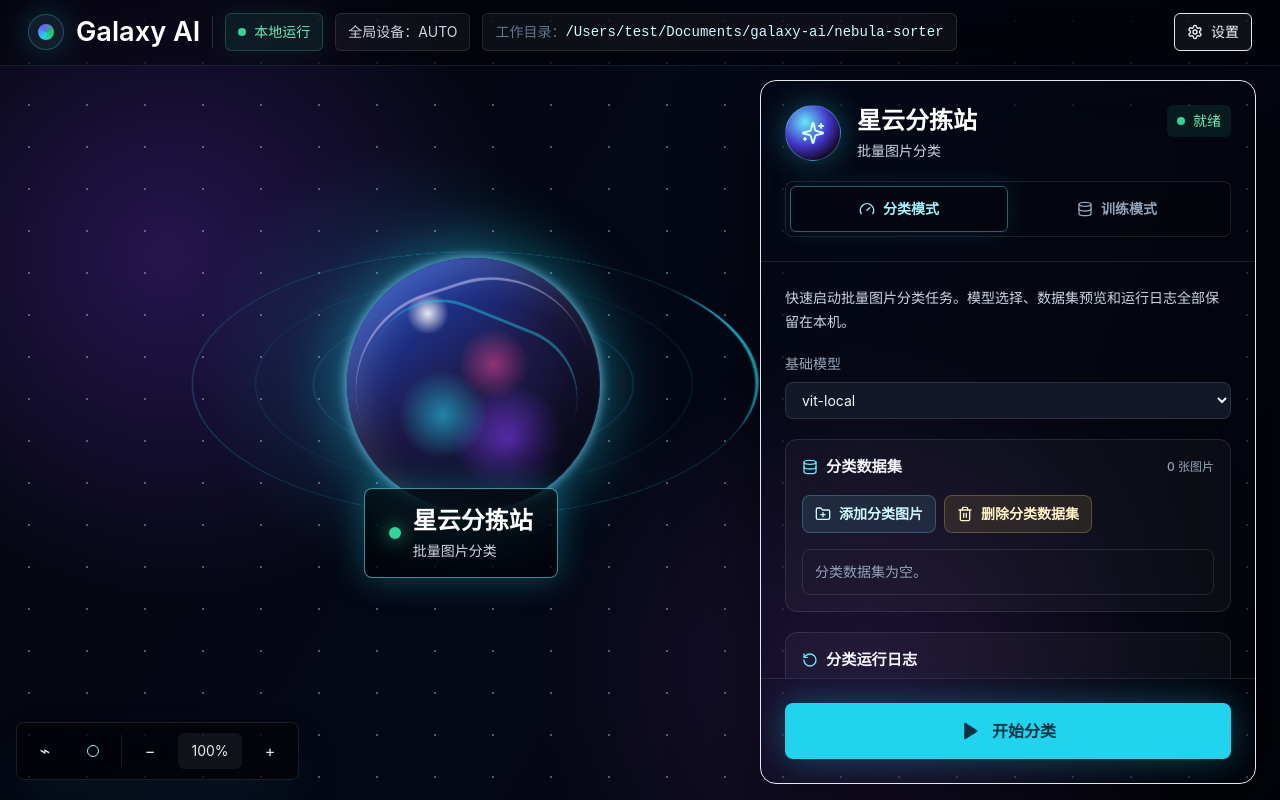
it: Galaxy AI home › locks training while classification is running and confirms cancellation from the action button
The image size is (1280, 800).
Click the button "开始分类" at point(1008, 731), box [785,703,1231,759]
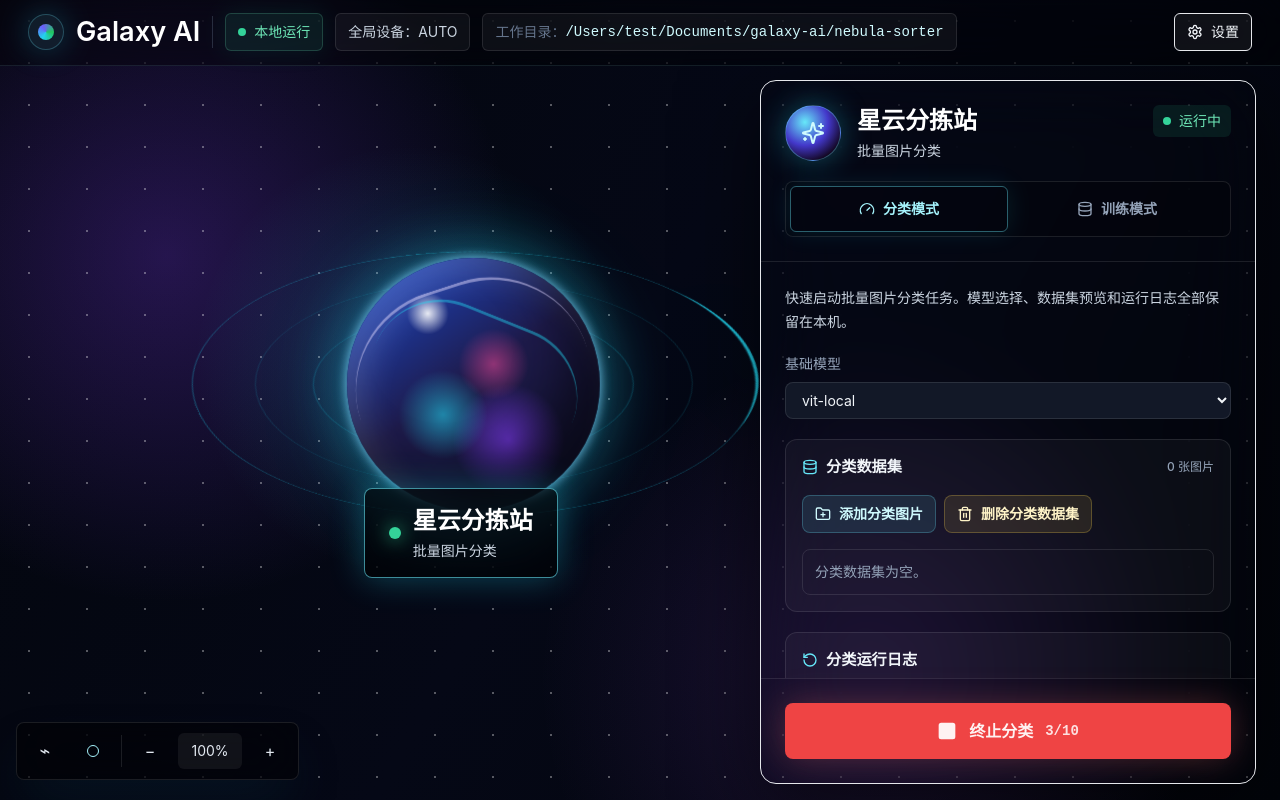
Now the button "终止分类 3/10" is shown, box [785,703,1231,759]
Click the tab "训练模式" at point(1117, 209), box [1008,186,1226,232]
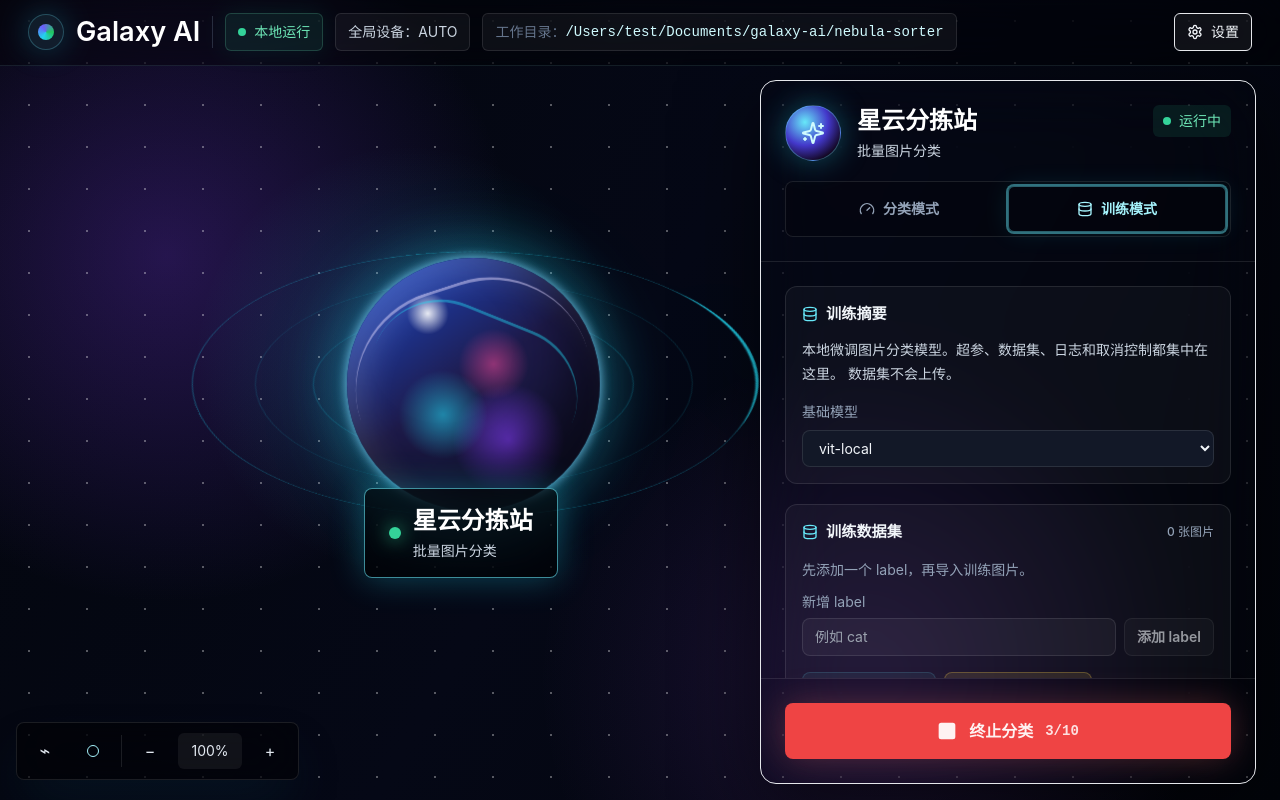
Now the button "终止分类 3/10" is shown
Click the button "终止分类 3/10" at point(1008, 731), box [785,703,1231,759]
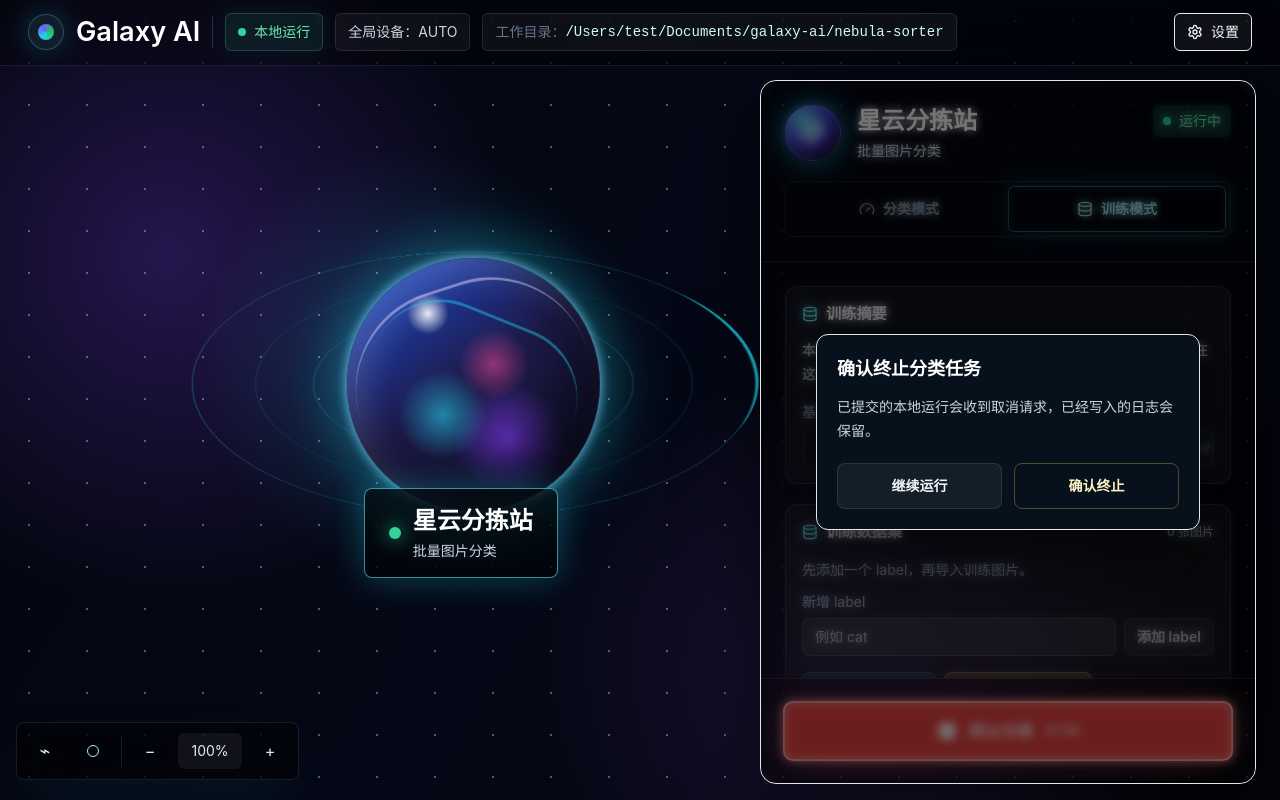
Now the dialog "确认终止分类任务" is shown, box [816,334,1200,530]
Click the button "继续运行" at point(920, 486), box [837,463,1002,509]
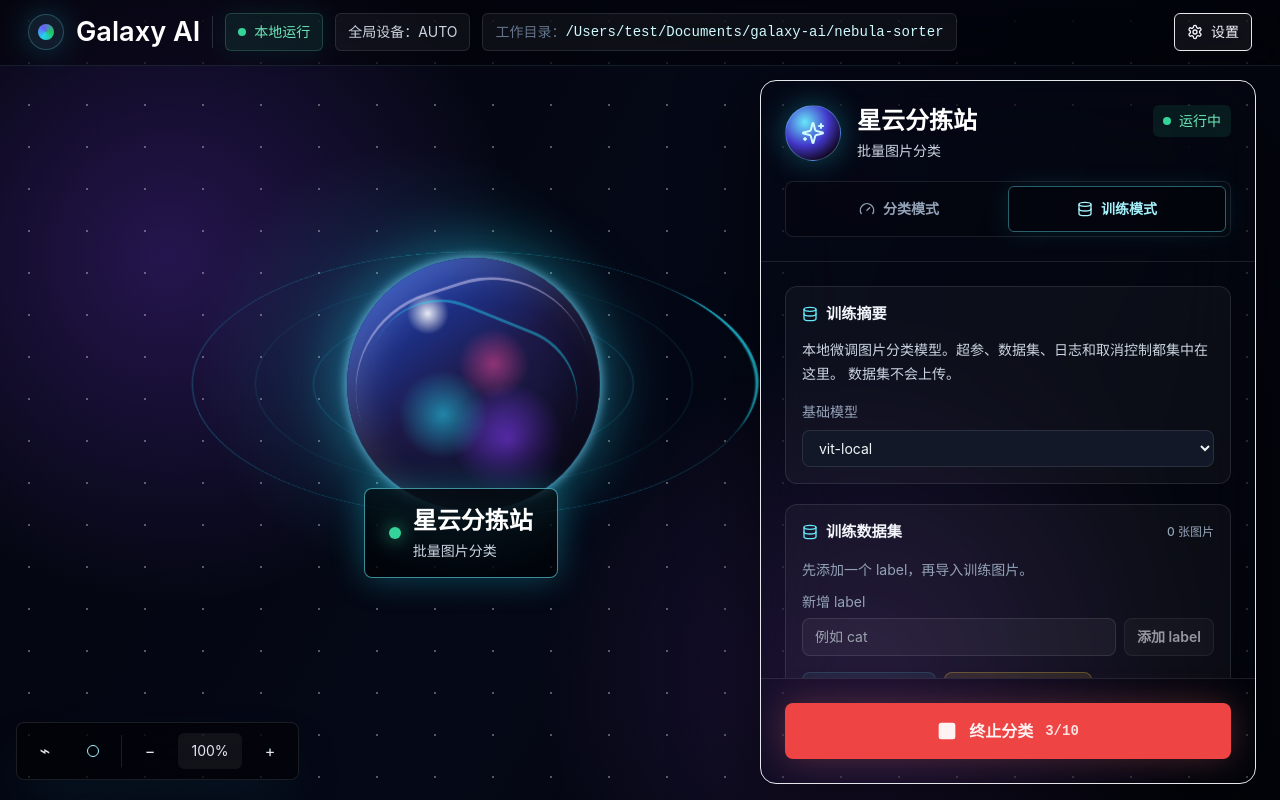
Click the button "终止分类 3/10" at point(1008, 731), box [785,703,1231,759]
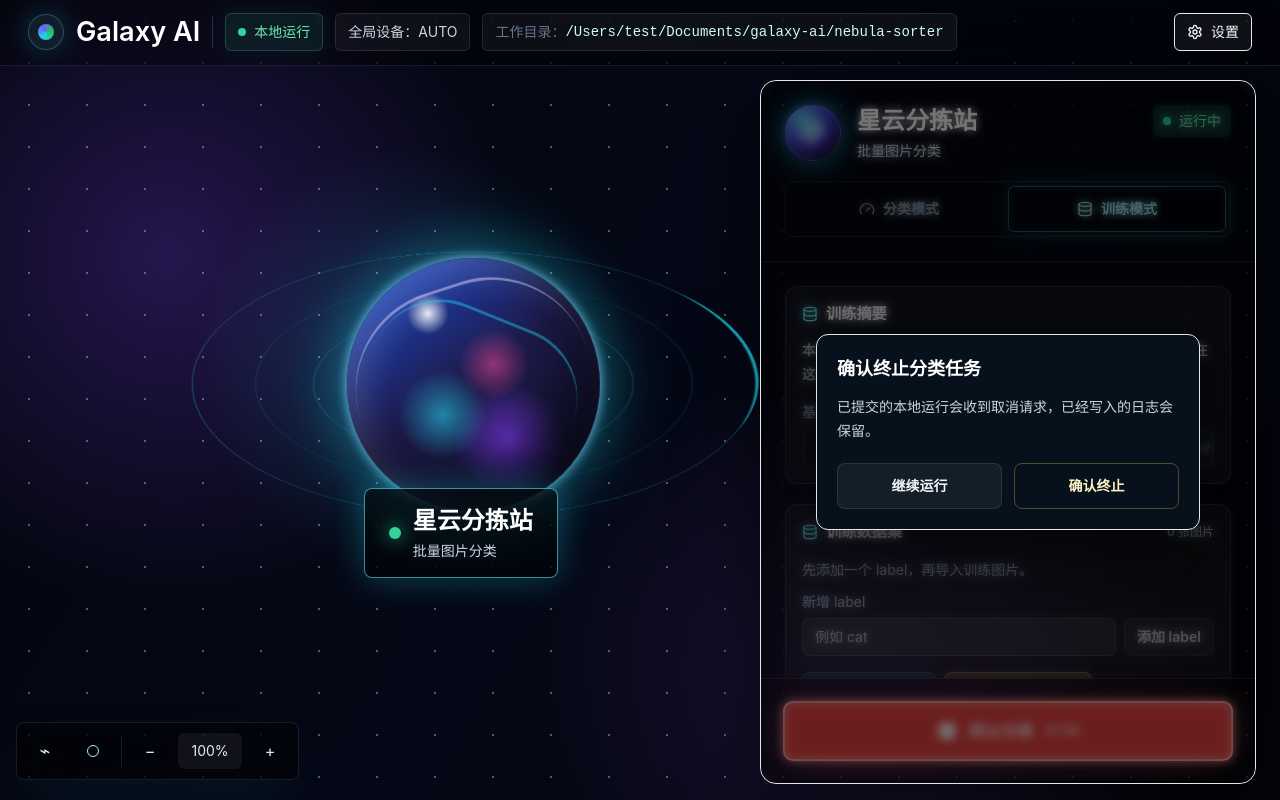
Click the button "确认终止" at point(1096, 486), box [1014,463,1179,509]
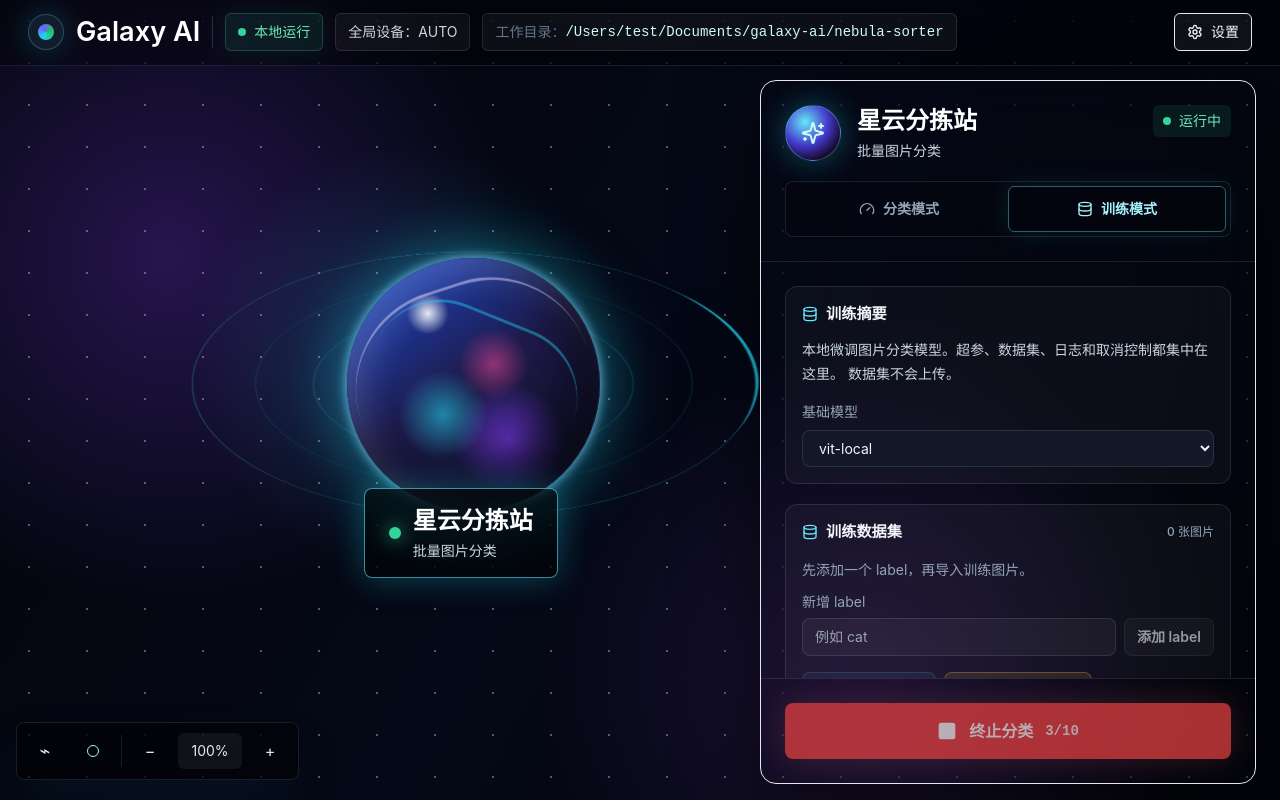
Now the button "终止分类 3/10" is disabled, box [785,703,1231,759]
